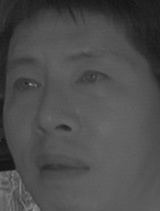eye: (73, 66, 109, 92), (8, 75, 43, 96)
mouth: (31, 146, 92, 183)
